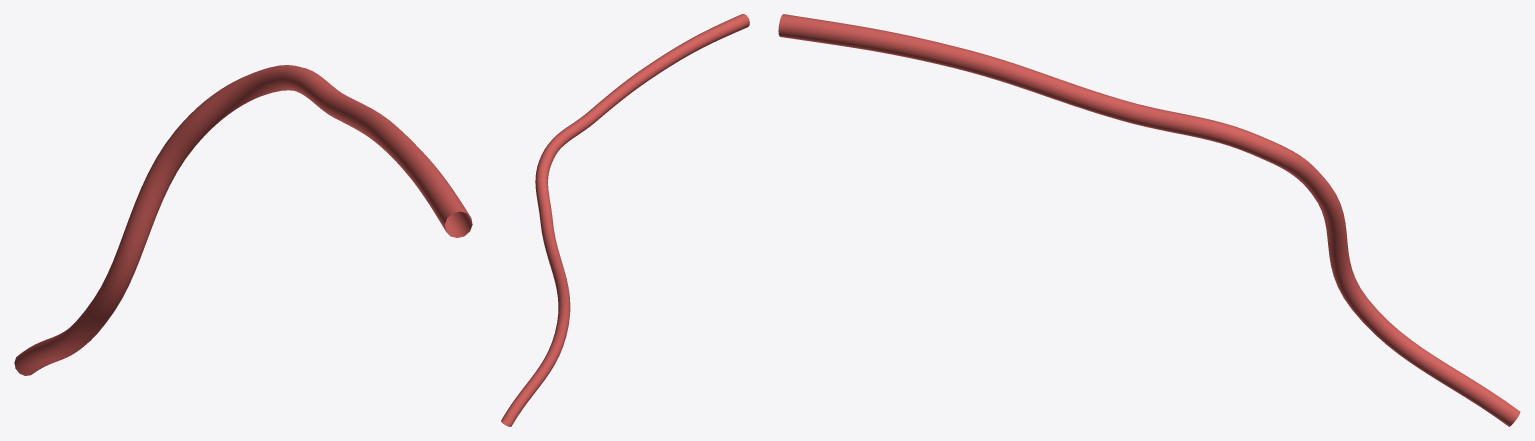
3 views of the same model, side by side, from view 1: azimuth 30°, elevation 25°; view 2: azimuth 150°, elevation 25°; view 3: azimuth 270°, elevation 25° (orthographic). The views are drawn at different scales.
Visible parts, largest first — view 1: 左侧骨间返动脉; view 2: 左侧骨间返动脉; view 3: 左侧骨间返动脉.
Boxes of the visible parts, x1=… form: 左侧骨间返动脉: x1=14, y1=65, x2=472, y2=375; 左侧骨间返动脉: x1=501, y1=14, x2=749, y2=426; 左侧骨间返动脉: x1=778, y1=14, x2=1520, y2=426.
Size of the model in its own units: 0.0195 by 0.0704 by 0.1177.
